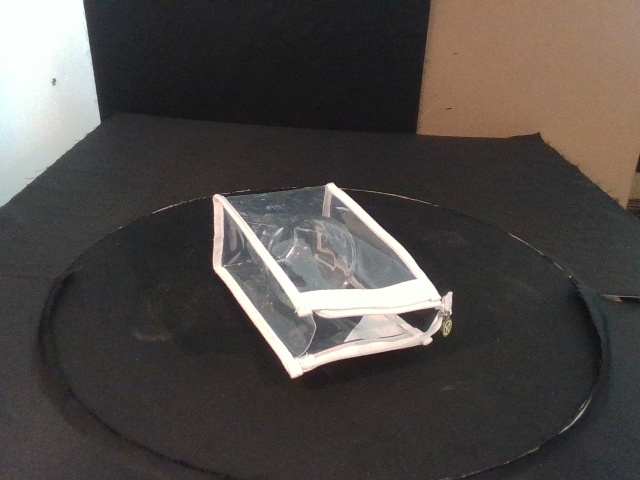pencil_case: (211, 183, 446, 381)
